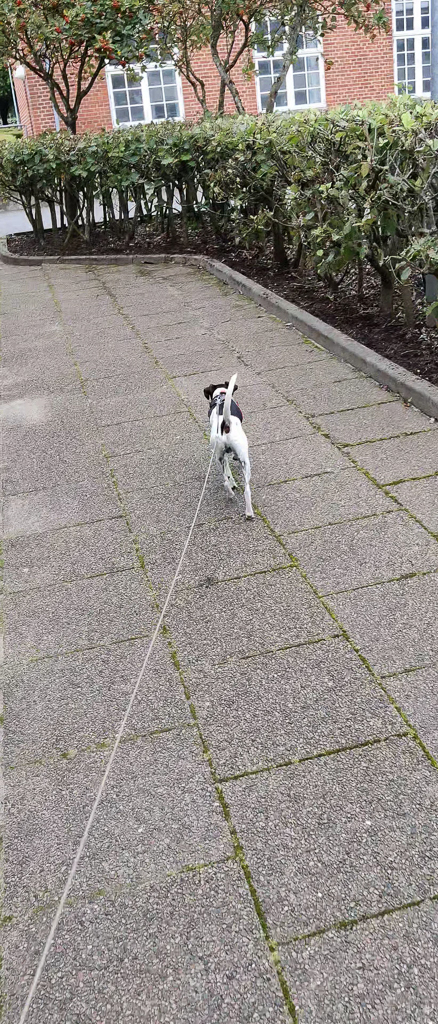Dog: (196, 368, 265, 526)
